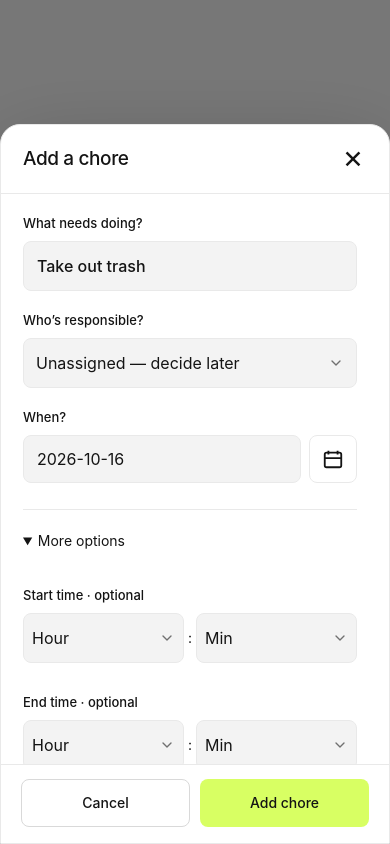
Test: ChoreModal starter drafts › retains the edited draft when saving fails
Click the button "Add chore" at (284, 803), box [200, 779, 369, 827]
(page scrolled)
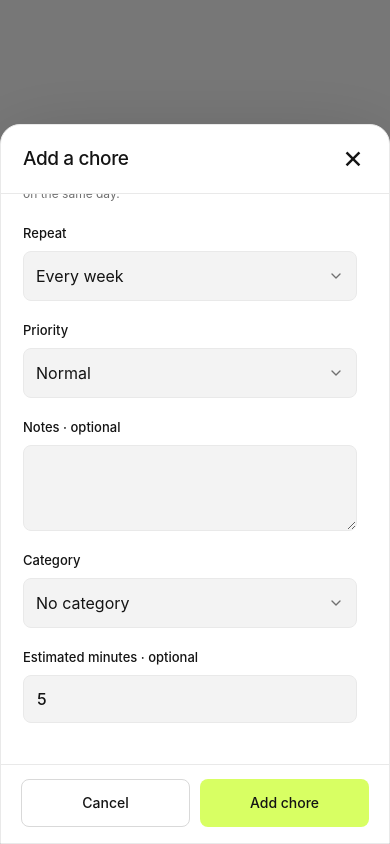
Check: the number field labelled "Estimated minutes · optional" holds "5", box [23, 675, 357, 723]
